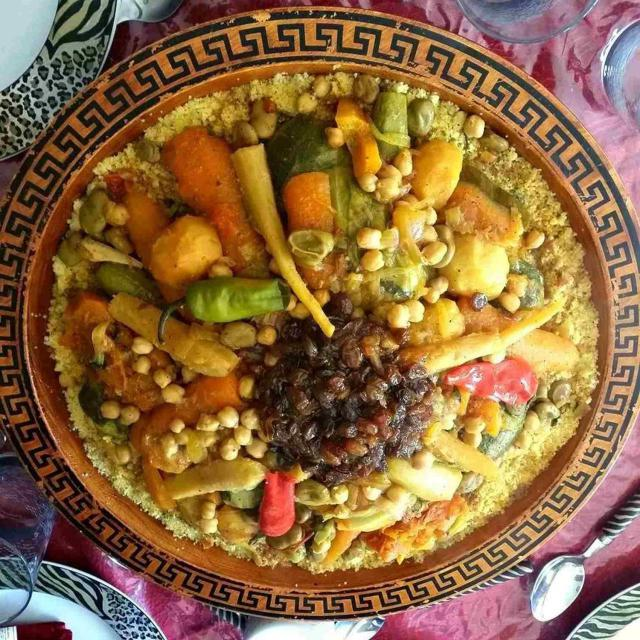Couscous: (0, 17, 640, 608)
